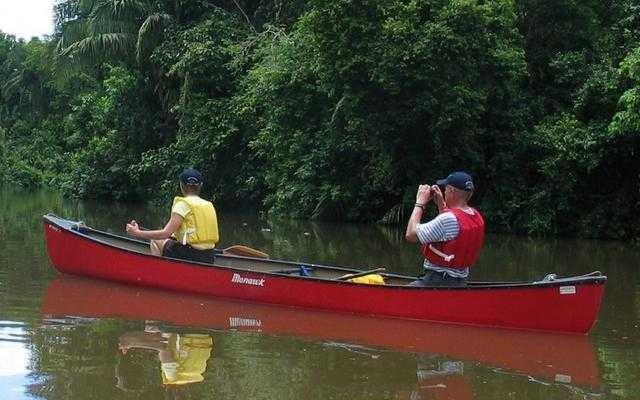kayak: (35, 215, 612, 362)
